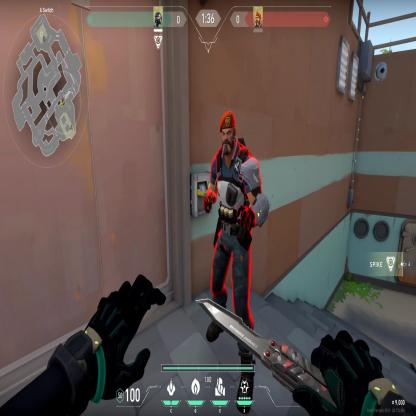enemy: (201, 107, 271, 306)
